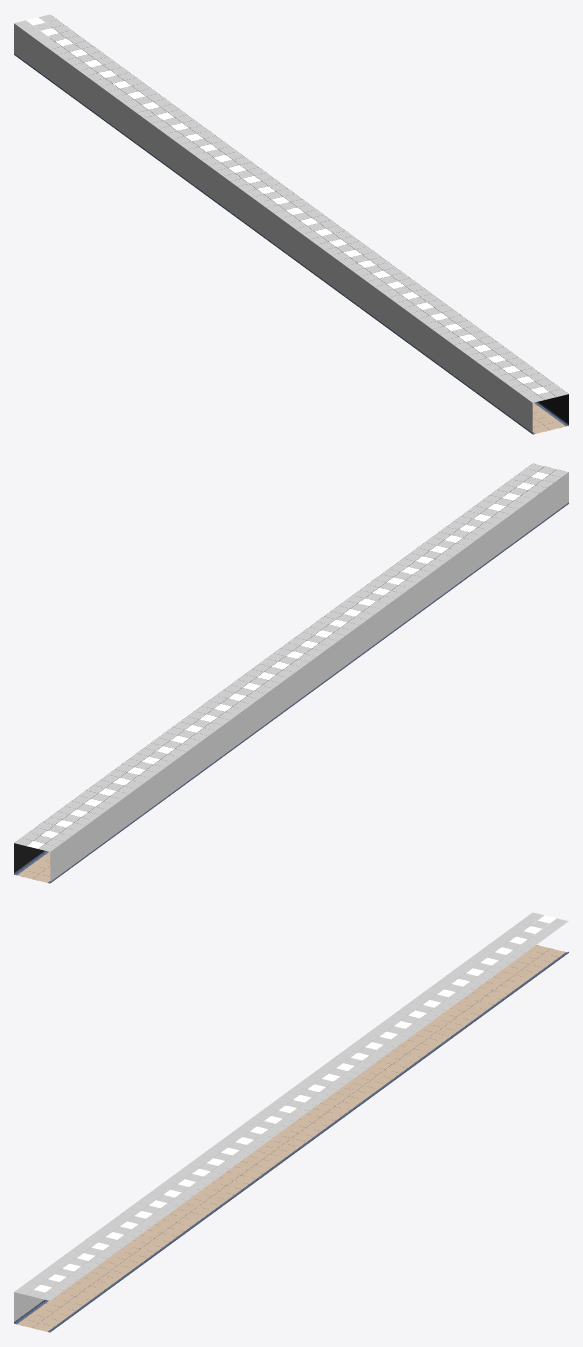
Rendered from ground.glb.
3 views of the same model, one above another, from view 1: azimuth 30°, elevation 25°; view 2: azimuth 150°, elevation 25°; view 3: azimuth 330°, elevation 25° (orthographic).
Parts seen in each view (by area): view 1: Cube.002; view 2: Cube.002; view 3: Cube.002.
Part boxes in pixels (x1,y1,x2,y2): Cube.002: (14,14,568,434); Cube.002: (14,463,568,883); Cube.002: (14,912,568,1332).
Size of the model in its own units: 2.9 by 2.42 by 72.
